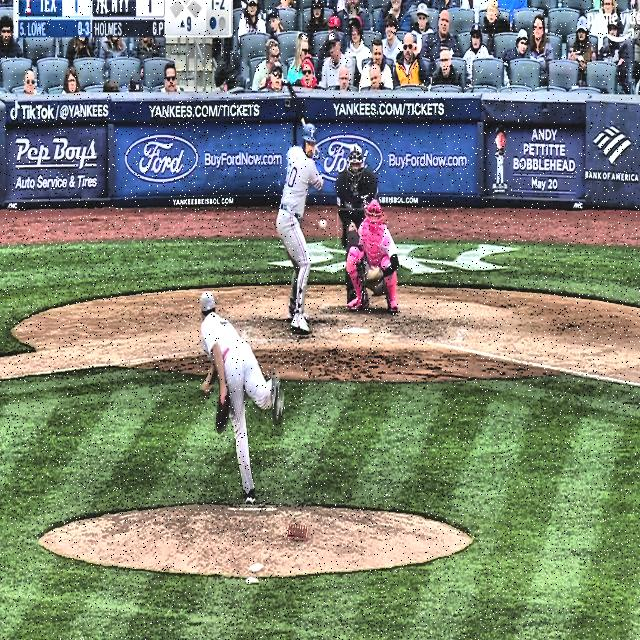baseball: (318, 217, 328, 231)
